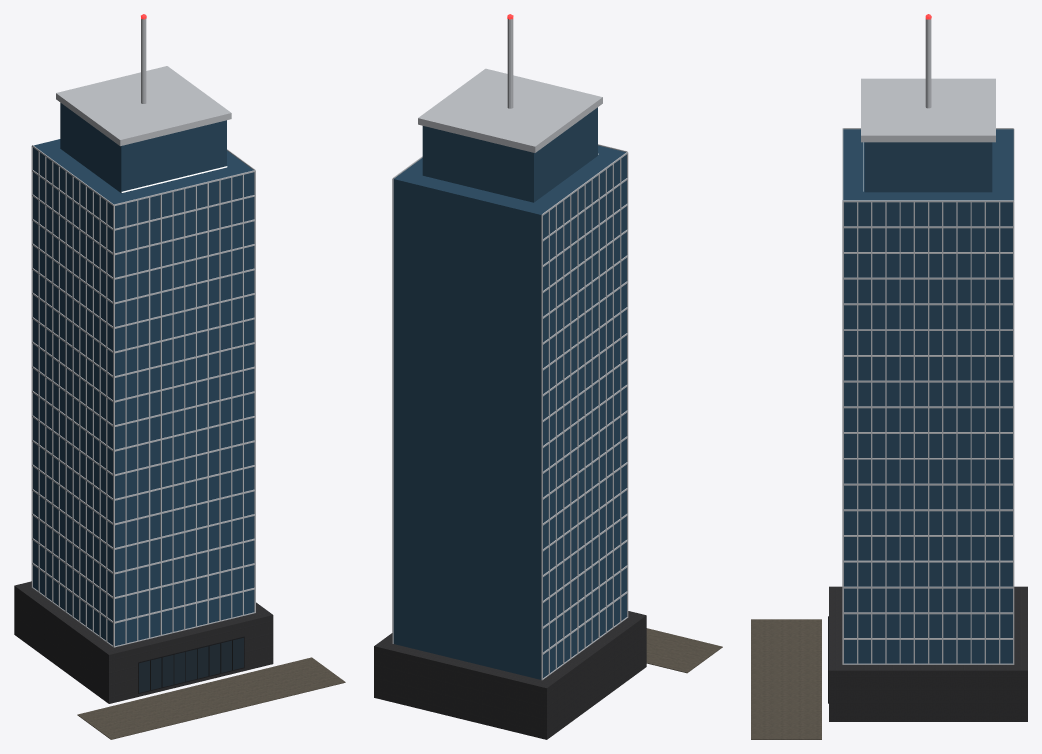
File: OT_Skyscraper_Glass.glb
The picture shows the model from 3 angles, left to right: view 1: azimuth 30°, elevation 25°; view 2: azimuth 150°, elevation 25°; view 3: azimuth 270°, elevation 25°; orthographic projection. The views are drawn at different scales.
Visible parts, largest first — view 1: OT_Skyscraper_Glass_CurtainGlass__2b4d66, OT_Skyscraper_Glass_Mullion__c9ccd1, OT_Skyscraper_Glass_Granite, OT_Skyscraper_Glass_Pavement, OT_Skyscraper_Glass_Glass__22303a, OT_Skyscraper_Glass_Frame__18191c; view 2: OT_Skyscraper_Glass_CurtainGlass__2b4d66, OT_Skyscraper_Glass_Mullion__c9ccd1, OT_Skyscraper_Glass_Granite, OT_Skyscraper_Glass_Pavement; view 3: OT_Skyscraper_Glass_CurtainGlass__2b4d66, OT_Skyscraper_Glass_Mullion__c9ccd1, OT_Skyscraper_Glass_Granite, OT_Skyscraper_Glass_Pavement.
Boxes of the visible parts, bbox=[...] form: OT_Skyscraper_Glass_CurtainGlass__2b4d66: bbox=[33, 103, 254, 645]; OT_Skyscraper_Glass_Mullion__c9ccd1: bbox=[31, 18, 255, 647]; OT_Skyscraper_Glass_Granite: bbox=[14, 581, 273, 703]; OT_Skyscraper_Glass_Pavement: bbox=[77, 657, 345, 739]; OT_Skyscraper_Glass_Glass__22303a: bbox=[139, 637, 243, 692]; OT_Skyscraper_Glass_Frame__18191c: bbox=[138, 636, 244, 693]; OT_Skyscraper_Glass_CurtainGlass__2b4d66: bbox=[393, 107, 626, 679]; OT_Skyscraper_Glass_Mullion__c9ccd1: bbox=[392, 19, 628, 680]; OT_Skyscraper_Glass_Granite: bbox=[374, 611, 646, 739]; OT_Skyscraper_Glass_Pavement: bbox=[646, 628, 722, 673]; OT_Skyscraper_Glass_CurtainGlass__2b4d66: bbox=[843, 129, 1013, 663]; OT_Skyscraper_Glass_Mullion__c9ccd1: bbox=[842, 18, 1014, 664]; OT_Skyscraper_Glass_Granite: bbox=[829, 586, 1027, 721]; OT_Skyscraper_Glass_Pavement: bbox=[751, 619, 821, 739].
Size of the model in its own units: 40 by 104 by 39.
Materials: 9 (2 with a texture image).
